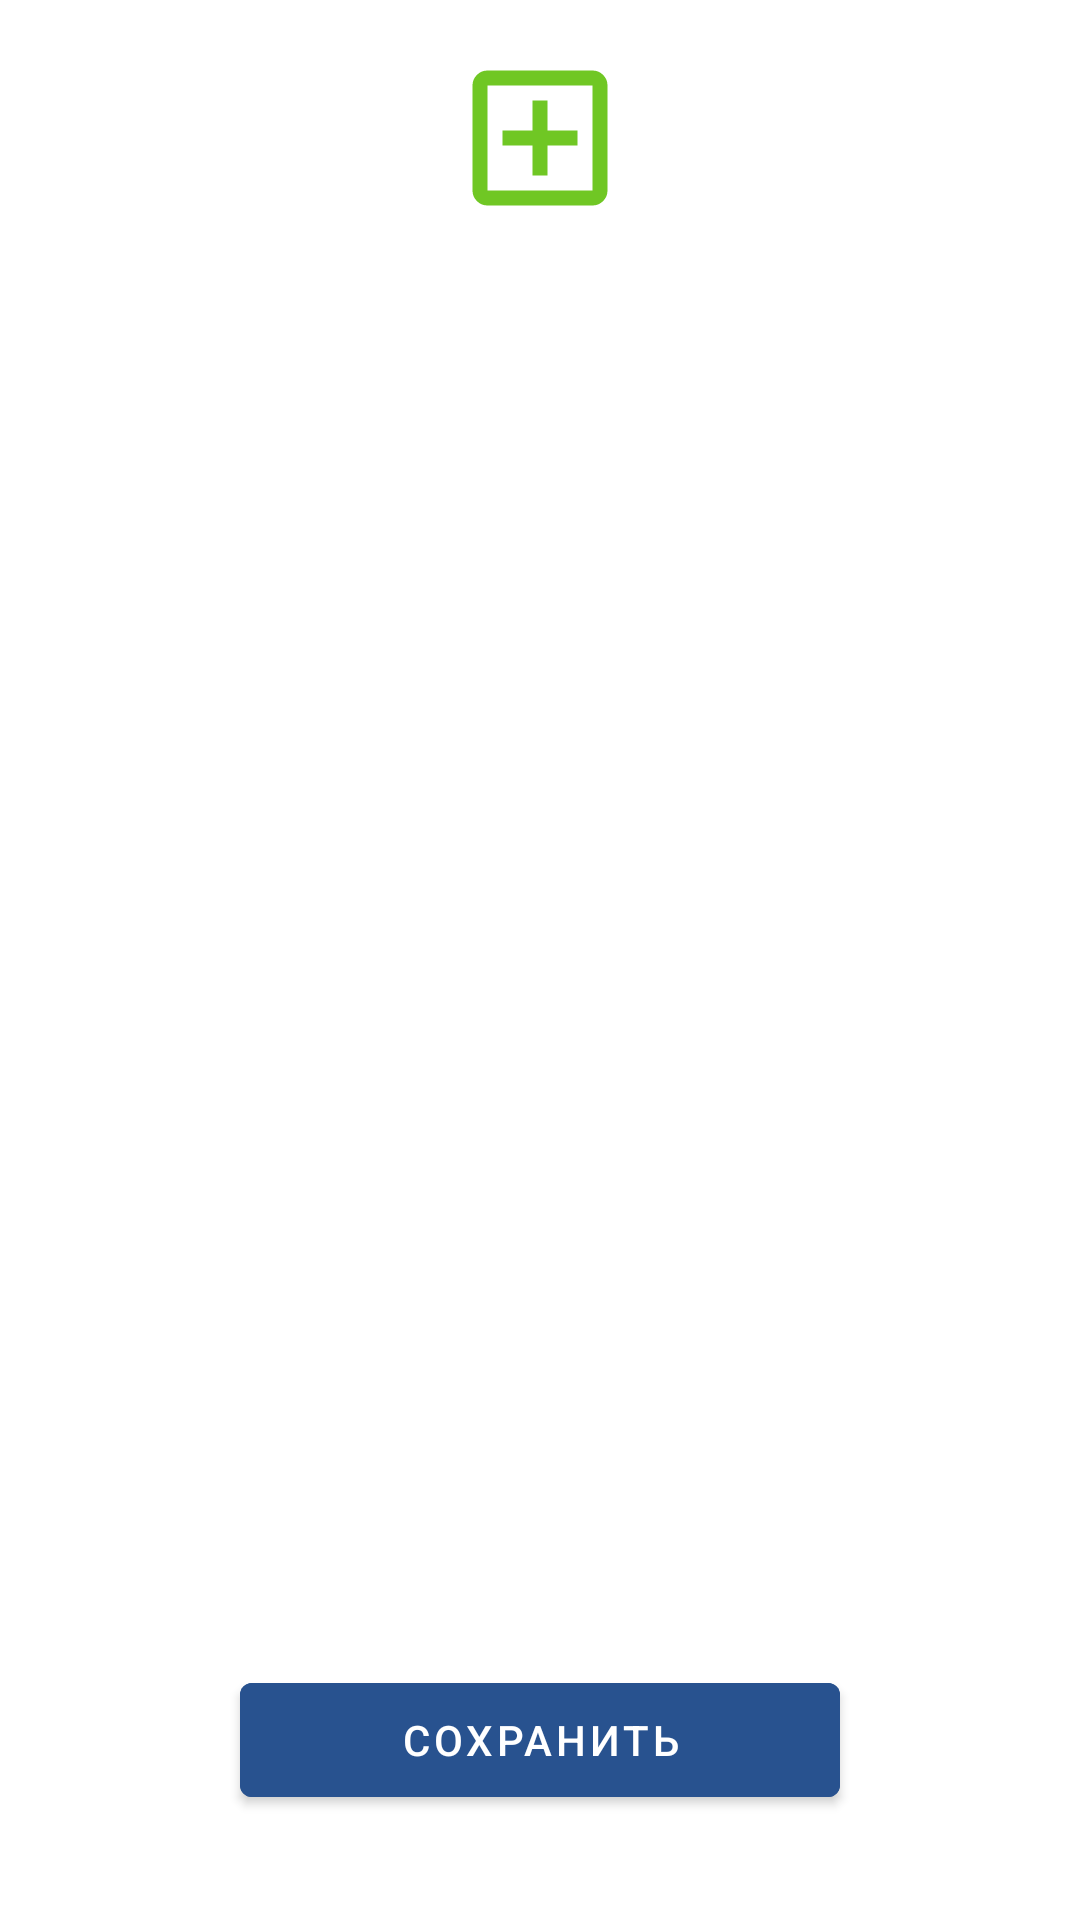

Named icons in this screenshot (1080x1920) and their centers, point (x, y):
add box: point (540, 138)
